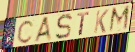A: (33, 15, 54, 43)
C: (16, 19, 36, 45)
K: (93, 9, 110, 35)
M: (107, 5, 132, 35)
S: (54, 13, 73, 41)
T: (76, 11, 90, 37)
